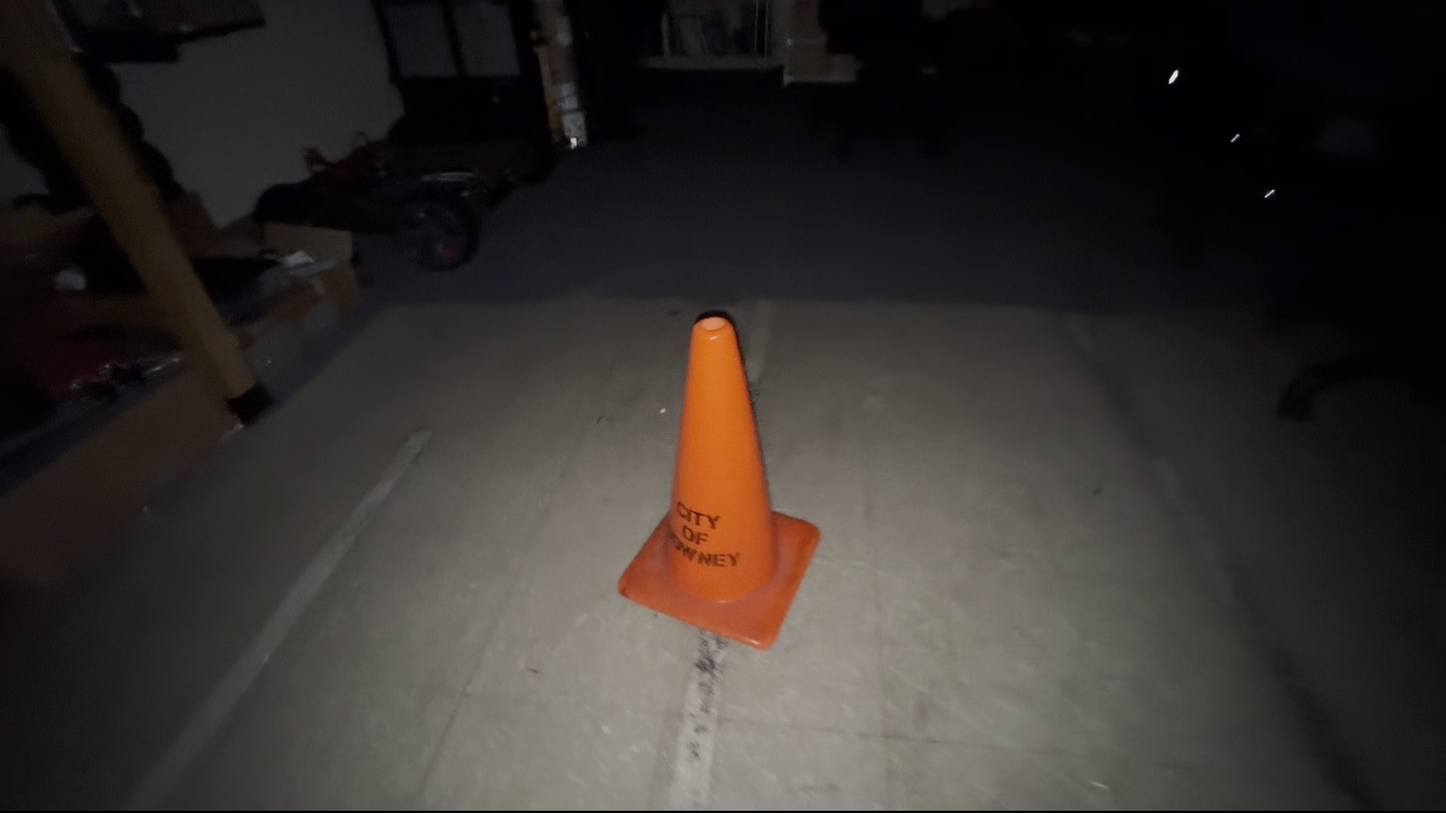traffic_cone: (616, 310, 822, 650)
